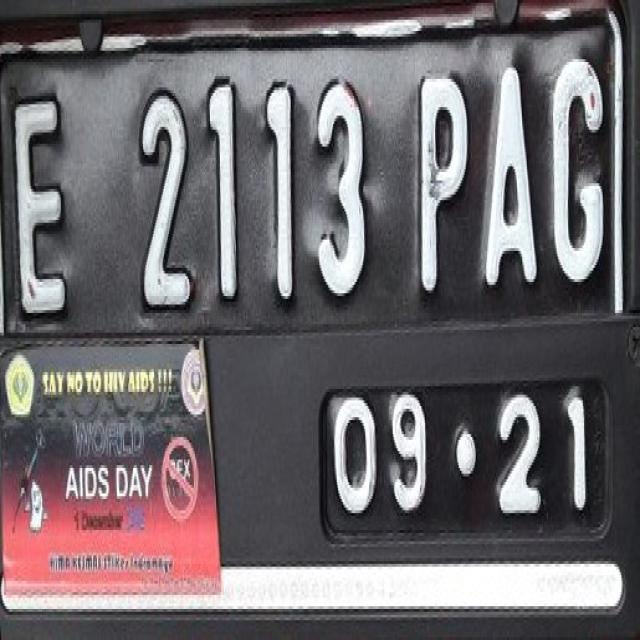plate: (0, 6, 629, 547)
